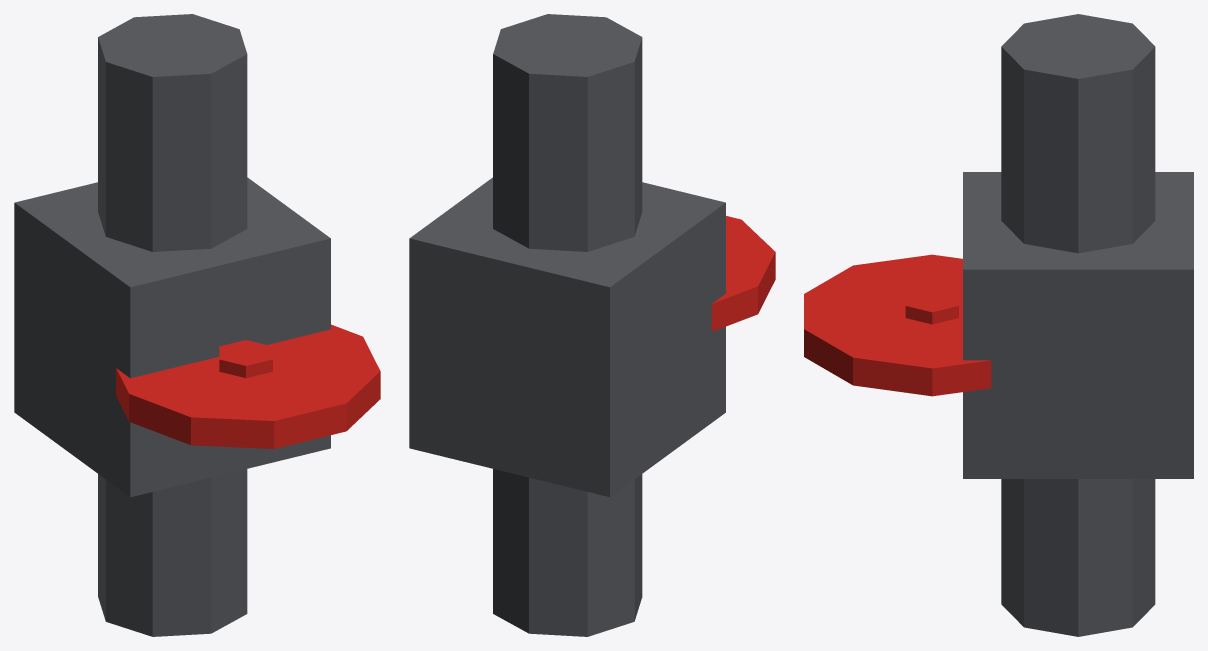
The model's file is chemical_valve.obj.
The picture shows the model from 3 angles, left to right: view 1: azimuth 30°, elevation 25°; view 2: azimuth 150°, elevation 25°; view 3: azimuth 270°, elevation 25°; orthographic projection.
Bounding box in the file's own units: 0.7 × 1.6 × 1.01.
